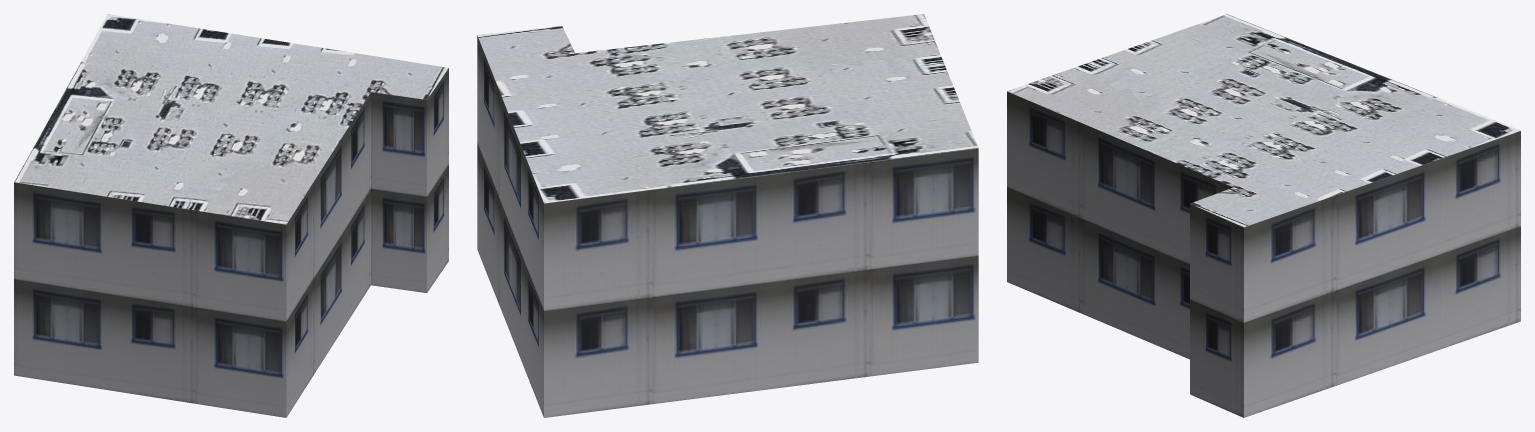
File: ResTex__1523.fbx
3 views of the same model, side by side, from view 1: azimuth 30°, elevation 25°; view 2: azimuth 150°, elevation 25°; view 3: azimuth 270°, elevation 25° (orthographic). The views are drawn at different scales.
Visible parts, largest first — view 1: CityEngineMaterial_9_m, CityEngineMaterial_8_m; view 2: CityEngineMaterial_9_m, CityEngineMaterial_8_m; view 3: CityEngineMaterial_9_m, CityEngineMaterial_8_m.
Boxes of the visible parts, <box> form: CityEngineMaterial_9_m: <box>14,68,448,417</box>; CityEngineMaterial_8_m: <box>14,14,448,224</box>; CityEngineMaterial_9_m: <box>477,35,978,417</box>; CityEngineMaterial_8_m: <box>477,14,978,203</box>; CityEngineMaterial_9_m: <box>1007,91,1520,417</box>; CityEngineMaterial_8_m: <box>1007,14,1520,227</box>.
Bounding box in the file's own units: 14.4 × 6 × 14.66.
Materials: 2 (2 with a texture image).
